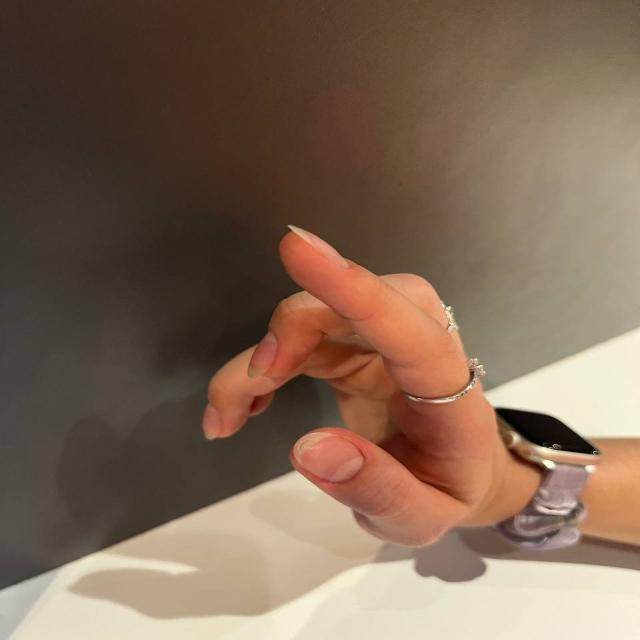b: (180, 233, 524, 540)
